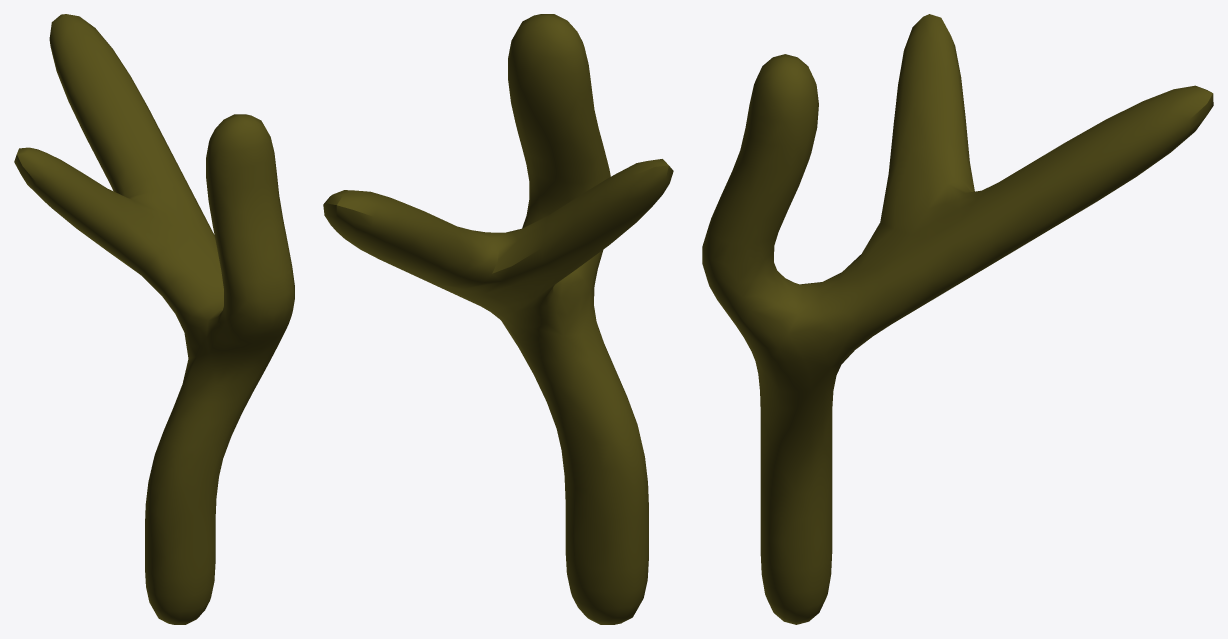
File: Dead Tree 6.fbx
3 views of the same model, side by side, from view 1: azimuth 30°, elevation 25°; view 2: azimuth 150°, elevation 25°; view 3: azimuth 270°, elevation 25° (orthographic). The views are drawn at different scales.
Visible parts, largest first — view 1: Cube; view 2: Cube; view 3: Cube.
Boxes of the visible parts, bbox=[...] form: Cube: bbox=[14, 14, 294, 624]; Cube: bbox=[323, 14, 673, 624]; Cube: bbox=[702, 14, 1213, 624].
Bounding box in the file's own units: 136 × 332 × 259.
